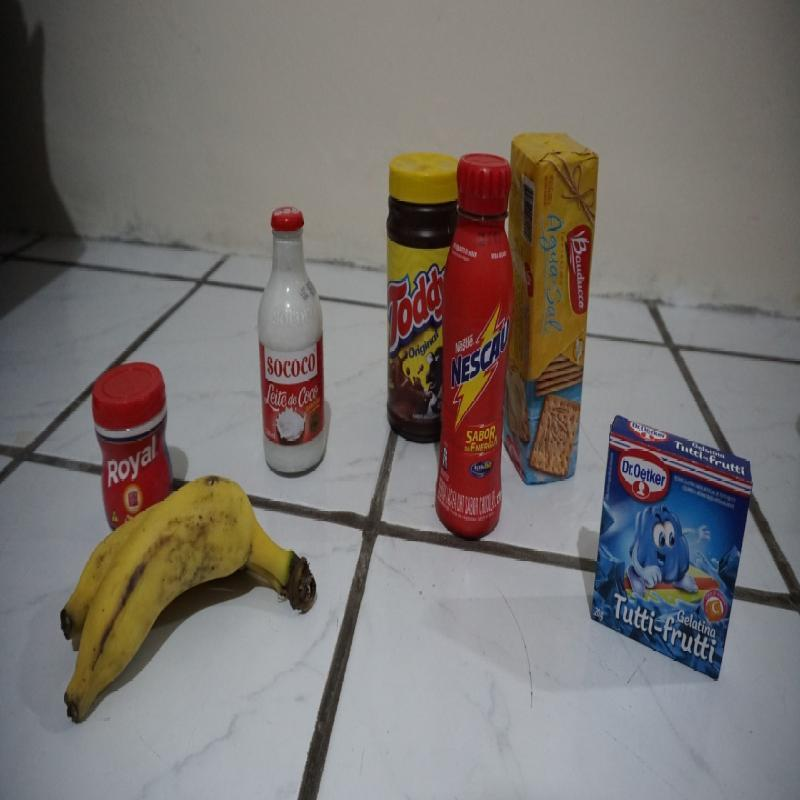Banana: (51, 474, 314, 722)
Chocolate Milk: (447, 151, 510, 532)
Chocolate Powder: (383, 150, 446, 449)
Coconut Milk: (256, 207, 327, 472)
Cracker: (512, 122, 596, 488)
Gelatine: (595, 416, 749, 686)
Yeast: (92, 355, 170, 506)
